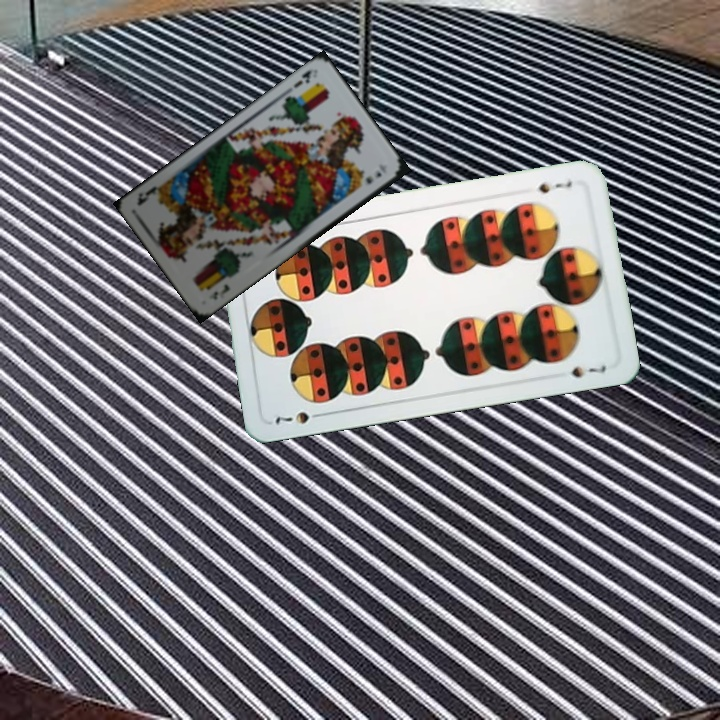EK: (290, 64, 317, 90), (205, 280, 232, 303)
S7: (271, 407, 328, 427), (534, 177, 575, 196)
